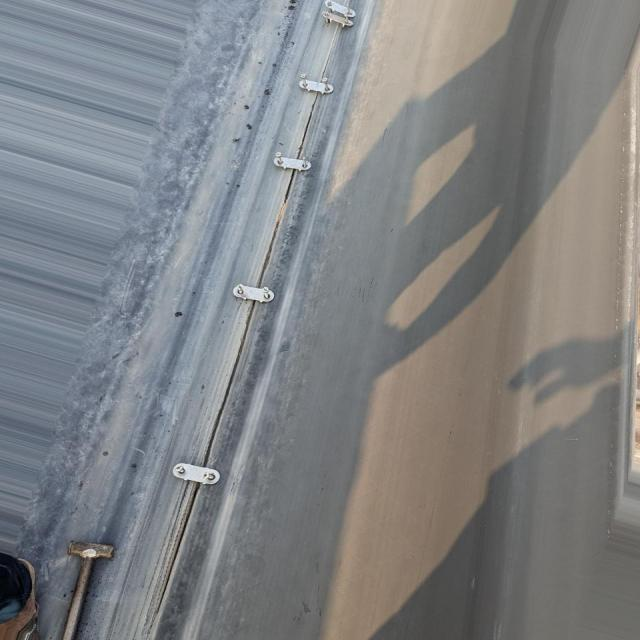Other Objects: (54, 535, 117, 639), (2, 540, 46, 640)
patch work: (144, 0, 358, 620)
